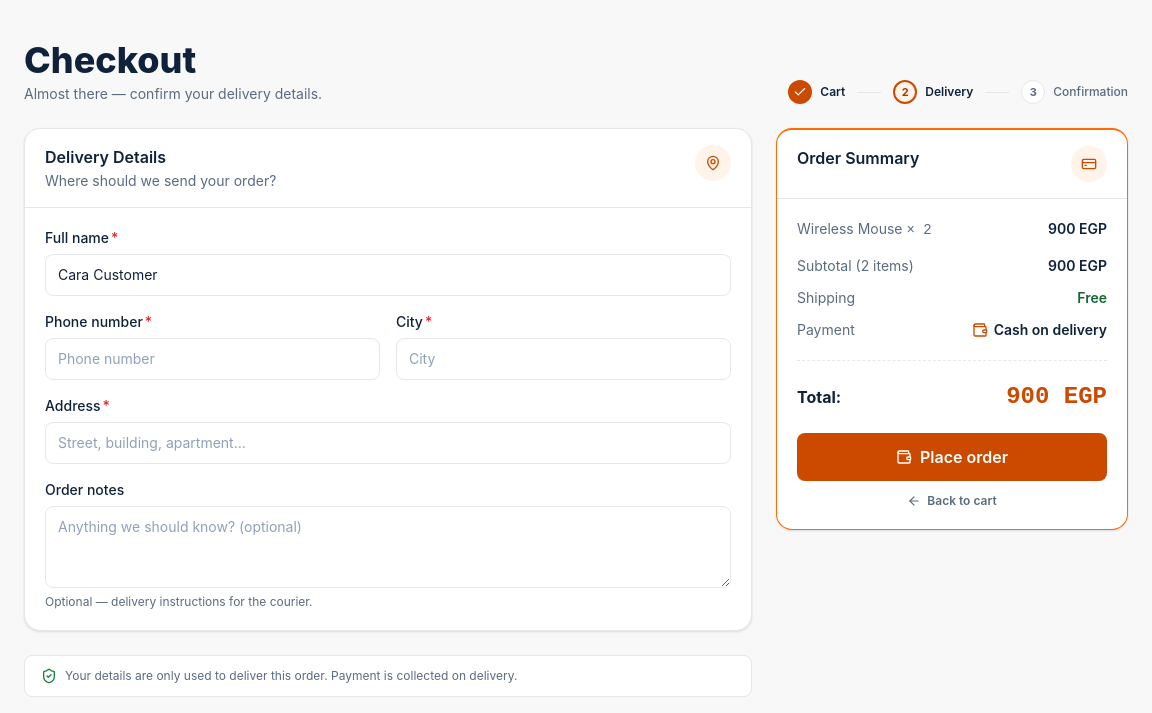
Scenario: Checkout page › requires the mandatory fields before placing an order
The width and height of the screenshot is (1152, 713).
Expected: the heading "Checkout" is shown, x1=24 y1=38 x2=196 y2=82
Click the button "Place order" at (952, 457), box x1=797 y1=433 x2=1107 y2=481
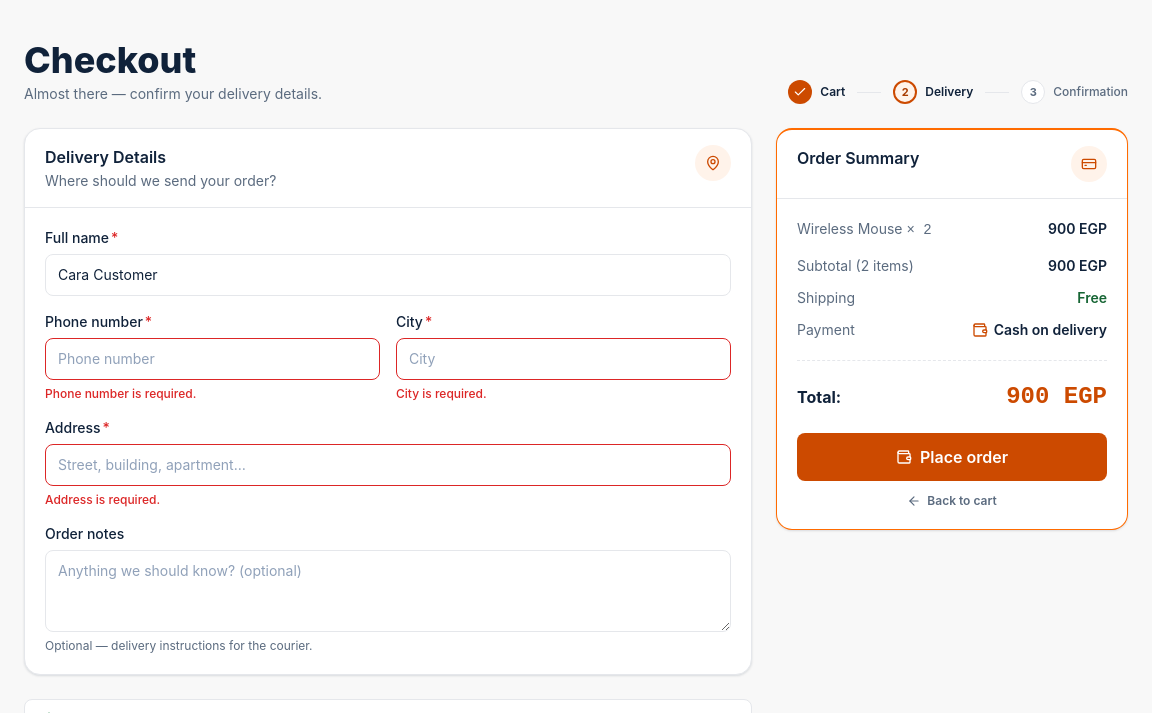
Now the text "Phone number is required." is shown, box x1=45 y1=386 x2=196 y2=401
Now the text "City is required." is shown, box x1=396 y1=386 x2=487 y2=401
Now the text "Address is required." is shown, box x1=45 y1=492 x2=160 y2=507
